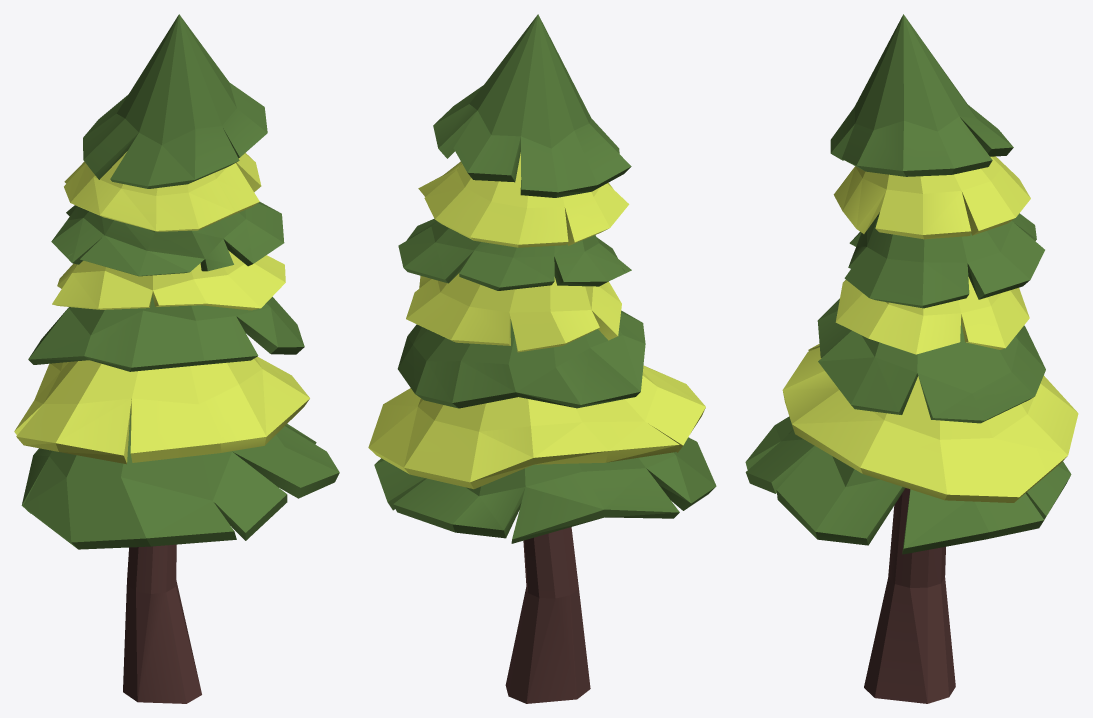
Rendered from Conifer Tree_2.fbx.
3 views of the same model, side by side, from view 1: azimuth 30°, elevation 25°; view 2: azimuth 150°, elevation 25°; view 3: azimuth 270°, elevation 25° (orthographic).
Visible parts, largest first — view 1: Conifer Tree_2; view 2: Conifer Tree_2; view 3: Conifer Tree_2.
Boxes of the visible parts, x1,y1,x2,y2 form: Conifer Tree_2: [14, 14, 339, 703]; Conifer Tree_2: [368, 14, 716, 703]; Conifer Tree_2: [745, 14, 1078, 703].
Size of the model in its own units: 2.57 by 5.64 by 2.5.
